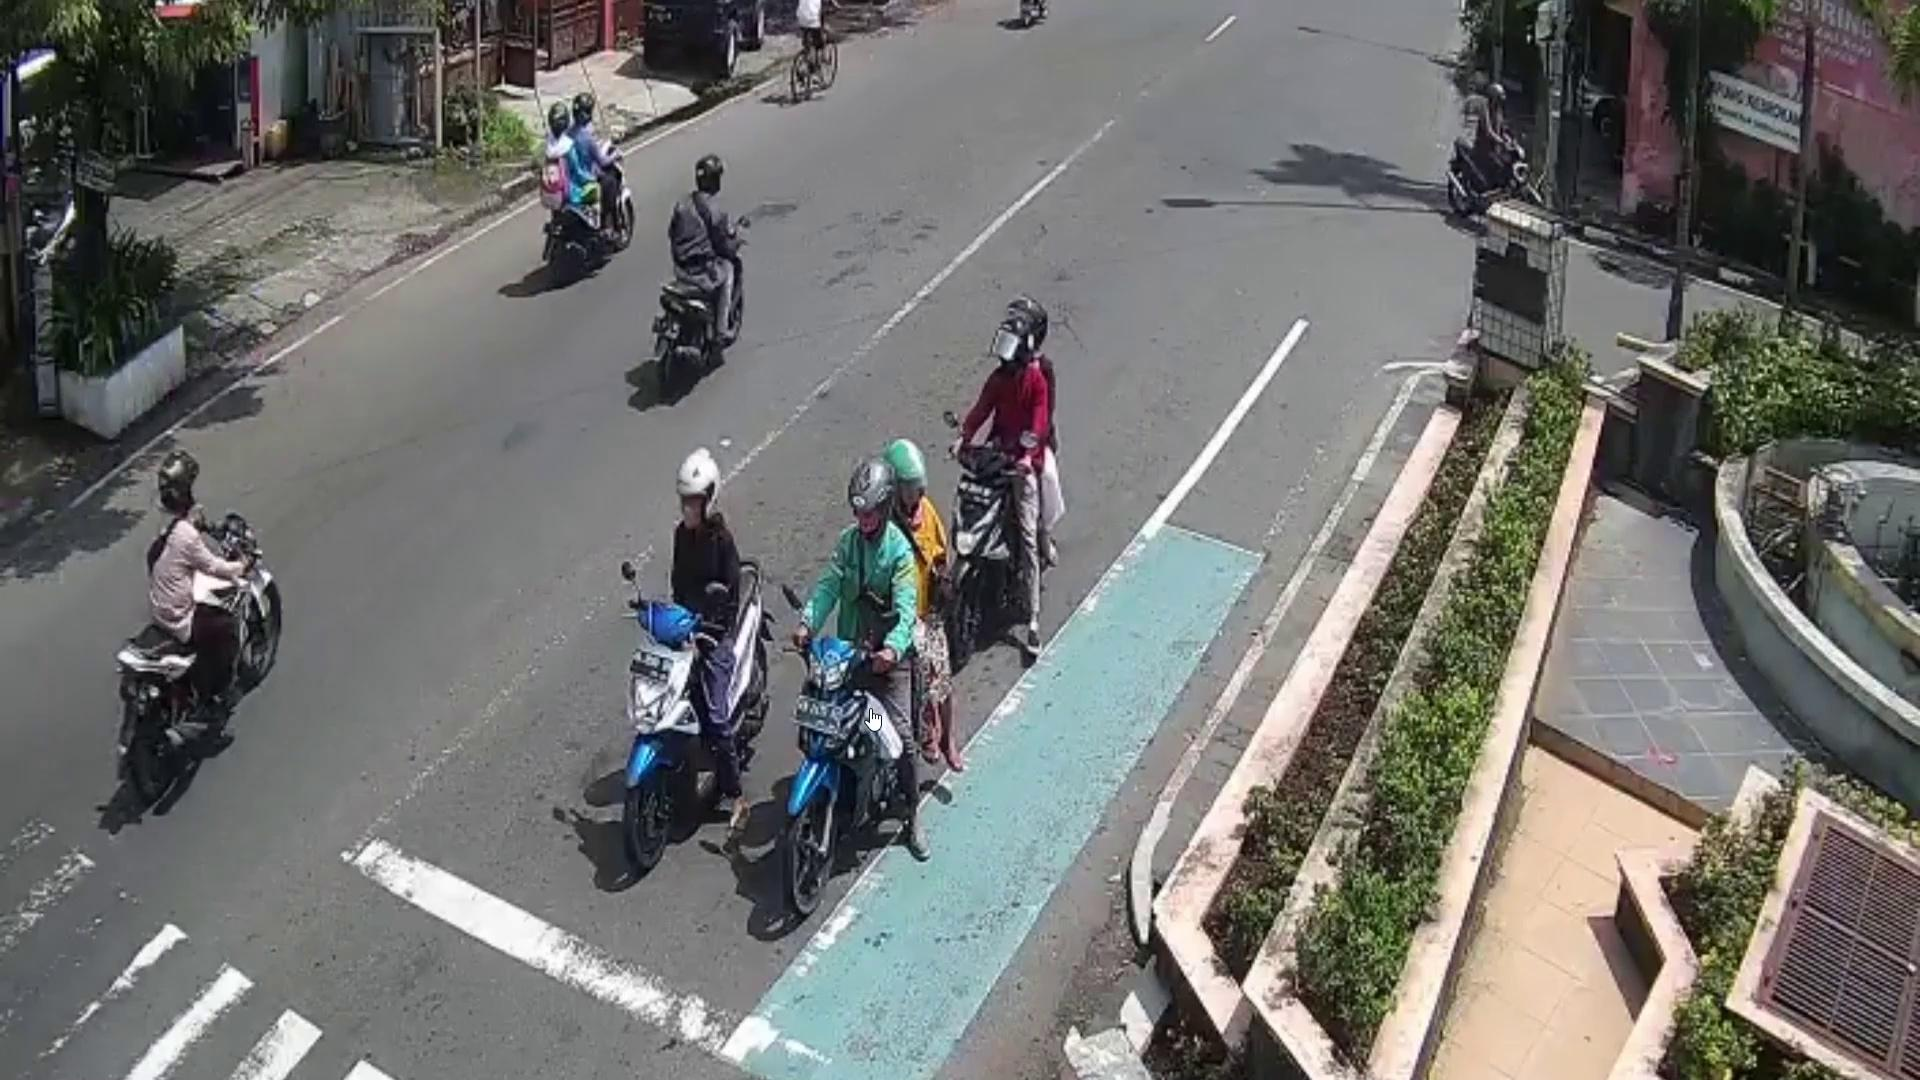motorbike: (105, 510, 289, 835), (616, 550, 777, 872), (781, 588, 923, 922), (940, 411, 1064, 667), (641, 210, 754, 400), (534, 120, 638, 289), (1444, 120, 1547, 232)
